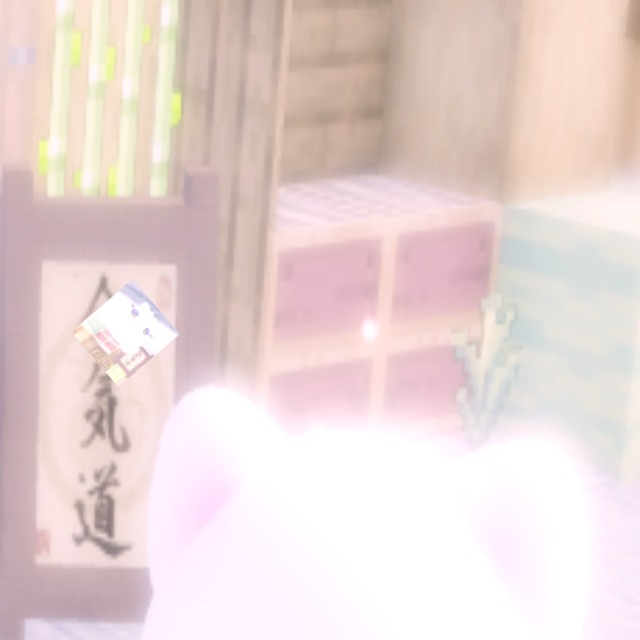urso_branco: (71, 279, 180, 387)
